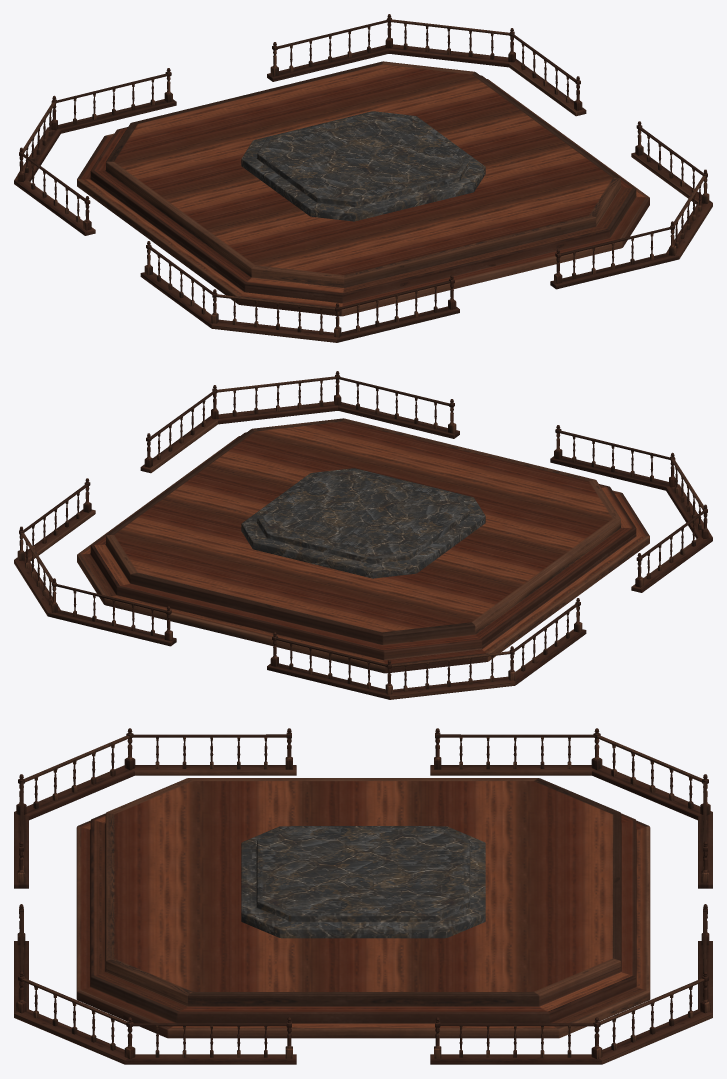
File: Stage_A.fbx
3 renders of one model, top to bottom at view 1: azimuth 30°, elevation 25°; view 2: azimuth 150°, elevation 25°; view 3: azimuth 270°, elevation 25°, orthographic. The views are drawn at different scales.
Visible parts, largest first — view 1: Stage_A; view 2: Stage_A; view 3: Stage_A.
Boxes of the visible parts, <box> form: Stage_A: <box>14,14,712,342</box>; Stage_A: <box>14,371,712,699</box>; Stage_A: <box>14,728,712,1064</box>.
Size of the model in its own units: 19.09 by 1.4 by 19.09.
